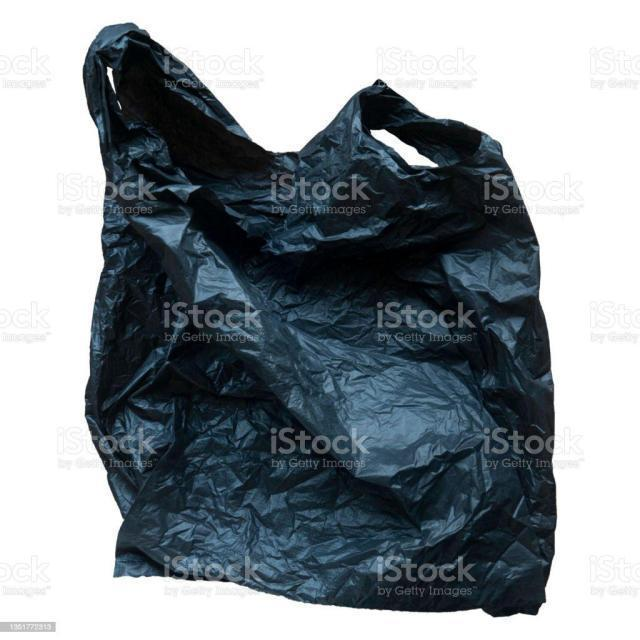Plastic_Bag: (74, 19, 572, 624)
